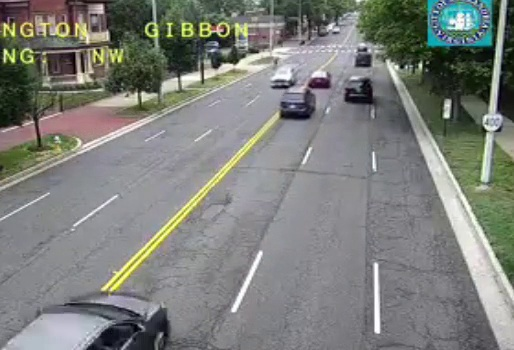car: (1, 294, 163, 350), (279, 88, 315, 115), (344, 77, 373, 100), (308, 71, 329, 87)
